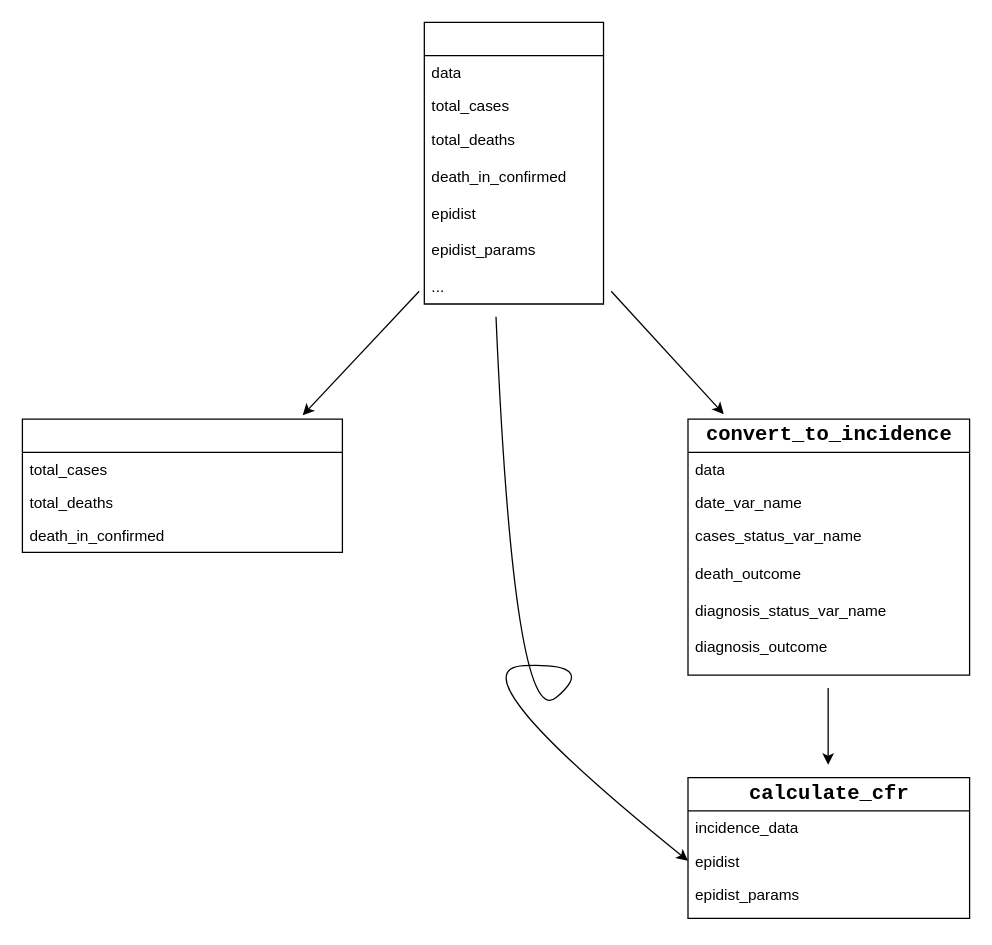
This 992x945 diagram has some shape labels left out. The shapes that lost their labels are listed below. From the top down, each one's box as (x1, y1, x2, y2) in pixels, then its label:
(423, 21, 604, 304): get_data_type
(21, 418, 342, 552): calculate_cfr_from_counts
